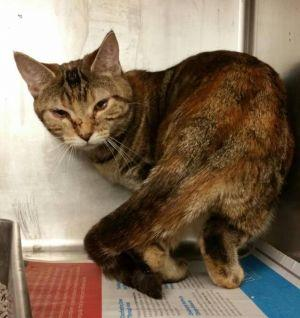bengal: (12, 26, 139, 162)
